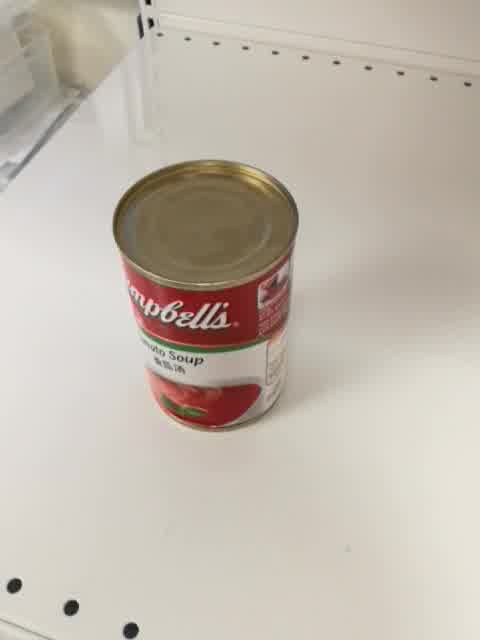tomatosoup: (112, 158, 299, 434)
